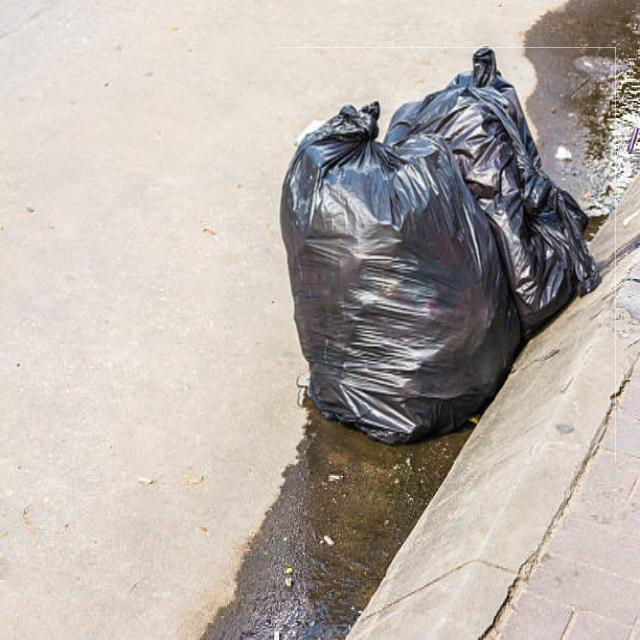Trashbag: (243, 123, 499, 442), (509, 160, 582, 313), (444, 61, 511, 122)
